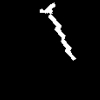half_double_crochet: (40, 3, 75, 59)
